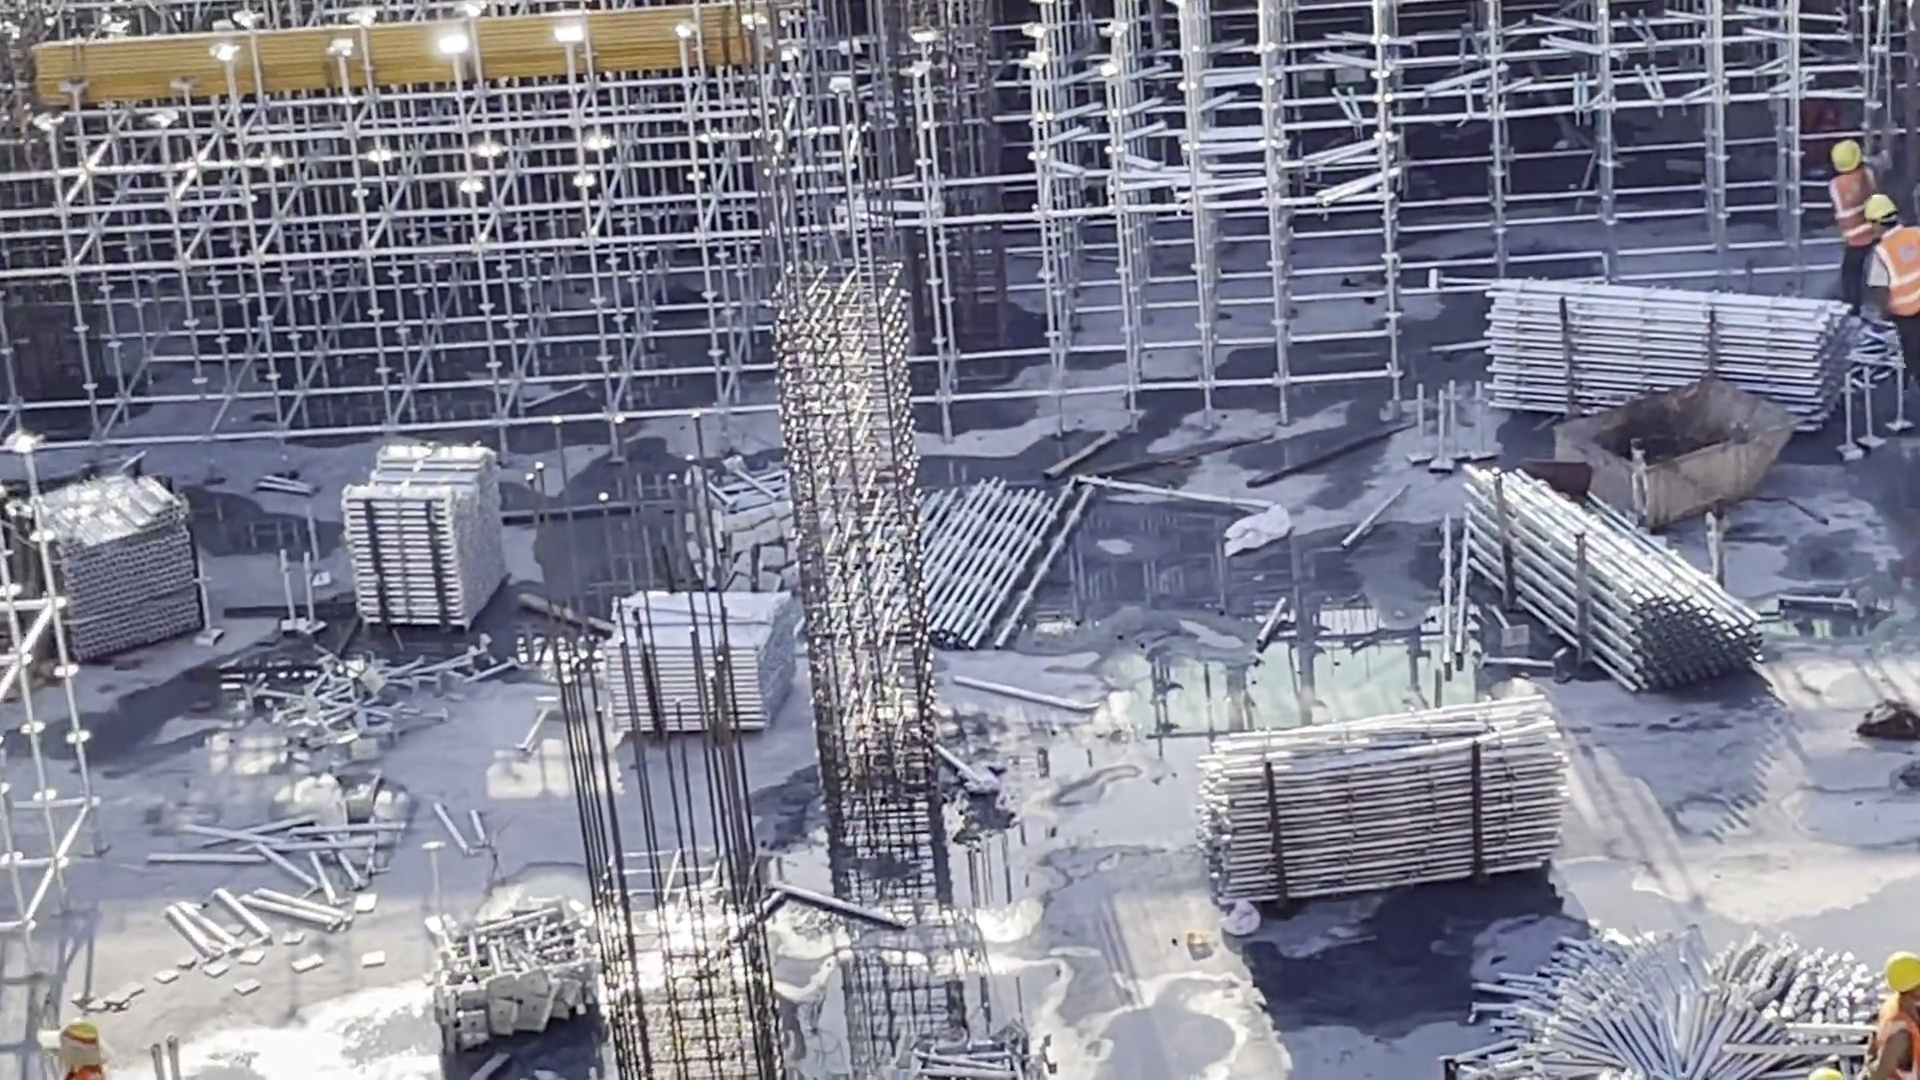helmet: (1879, 204, 1920, 273), (1834, 147, 1883, 194), (1881, 952, 1920, 993), (1794, 1049, 1834, 1080), (79, 1021, 123, 1046)
hopper: (1564, 372, 1776, 509)
person: (1821, 150, 1883, 290), (1869, 188, 1920, 327), (33, 1008, 120, 1080), (1881, 941, 1920, 1061), (1799, 1060, 1828, 1080)
scaffold: (1201, 716, 1619, 897), (1498, 266, 1891, 429), (1449, 474, 1754, 642), (583, 582, 791, 729), (56, 477, 183, 647), (369, 449, 481, 631)
vest: (1843, 172, 1884, 241), (1883, 997, 1920, 1064), (1884, 226, 1920, 294)
